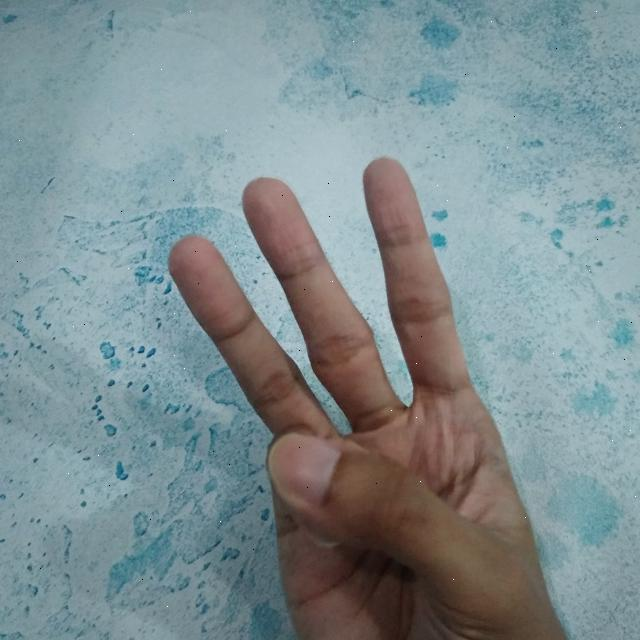W: (163, 146, 575, 640)
